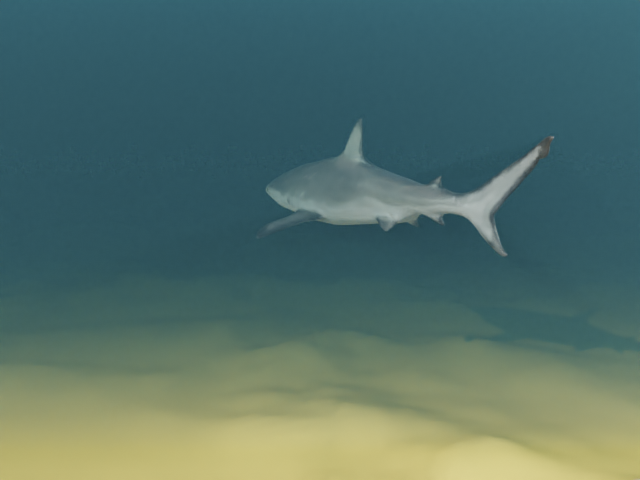Carribean Shark.001: (256, 118, 553, 256)
